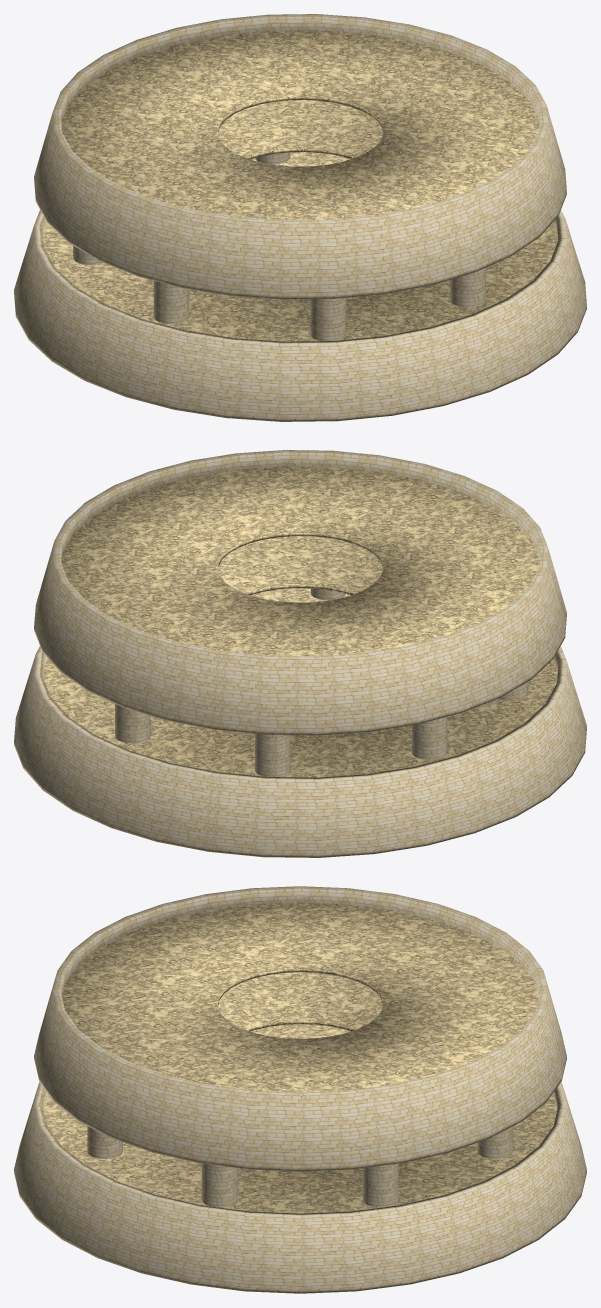
File: canton_circle.fbx
The picture shows the model from 3 angles, top to bottom: view 1: azimuth 30°, elevation 25°; view 2: azimuth 150°, elevation 25°; view 3: azimuth 270°, elevation 25°; orthographic projection.
Visible parts, largest first — view 1: canton_circle; view 2: canton_circle; view 3: canton_circle.
Boxes of the visible parts, left/top/right/bottom form: canton_circle: left=14, top=14, right=586, bottom=421; canton_circle: left=14, top=450, right=586, bottom=857; canton_circle: left=14, top=886, right=586, bottom=1293.
Size of what is drawn, in the model's own units: 160 by 56 by 160.
